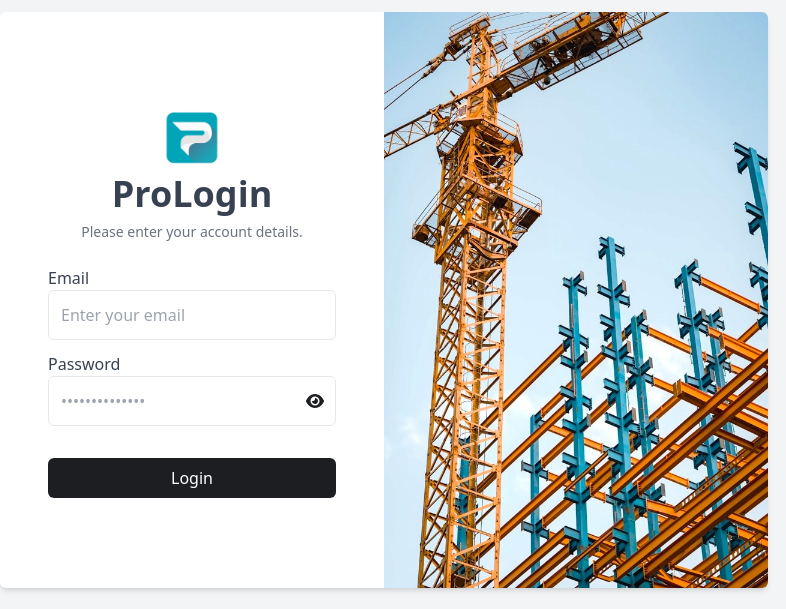
Test: <LoginForm/> › should alert user if password format is incorrect
The width and height of the screenshot is (786, 609).
Type "test" into the password field with placeholder "••••••••••••••". click: [192, 401]
box: top-left (48, 376), bottom-right (336, 426)
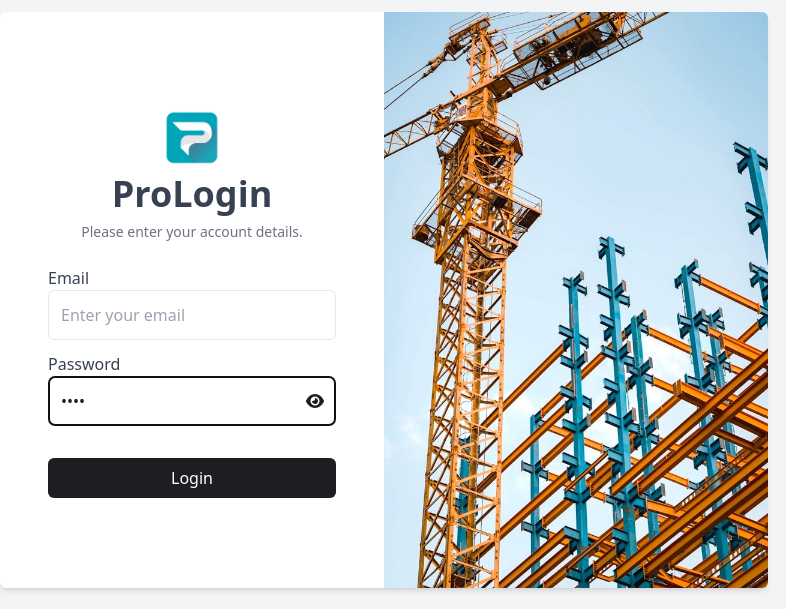
Click the button "Login". click: [192, 478]
box: top-left (48, 458), bottom-right (336, 498)
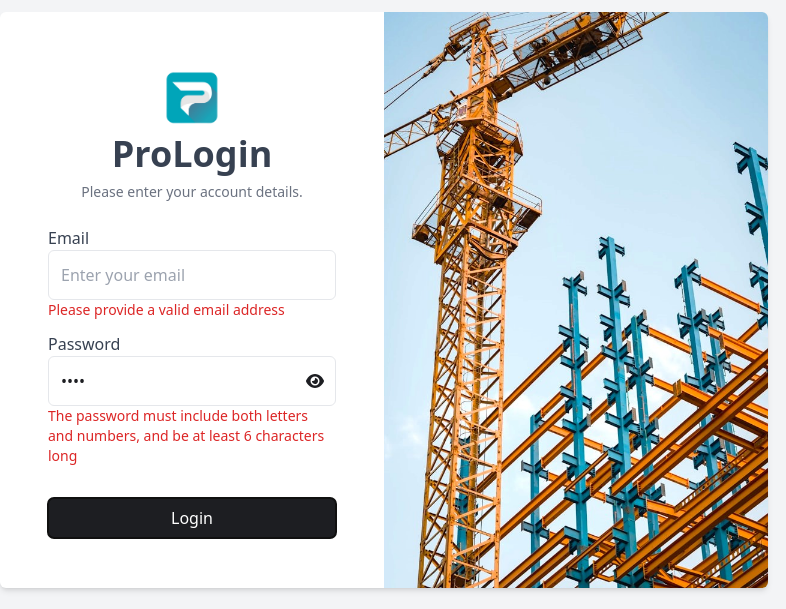
Expected: the text "The password must include both letters and numbers, and be at least 6 characters long" is shown, top-left (48, 406), bottom-right (324, 465)
